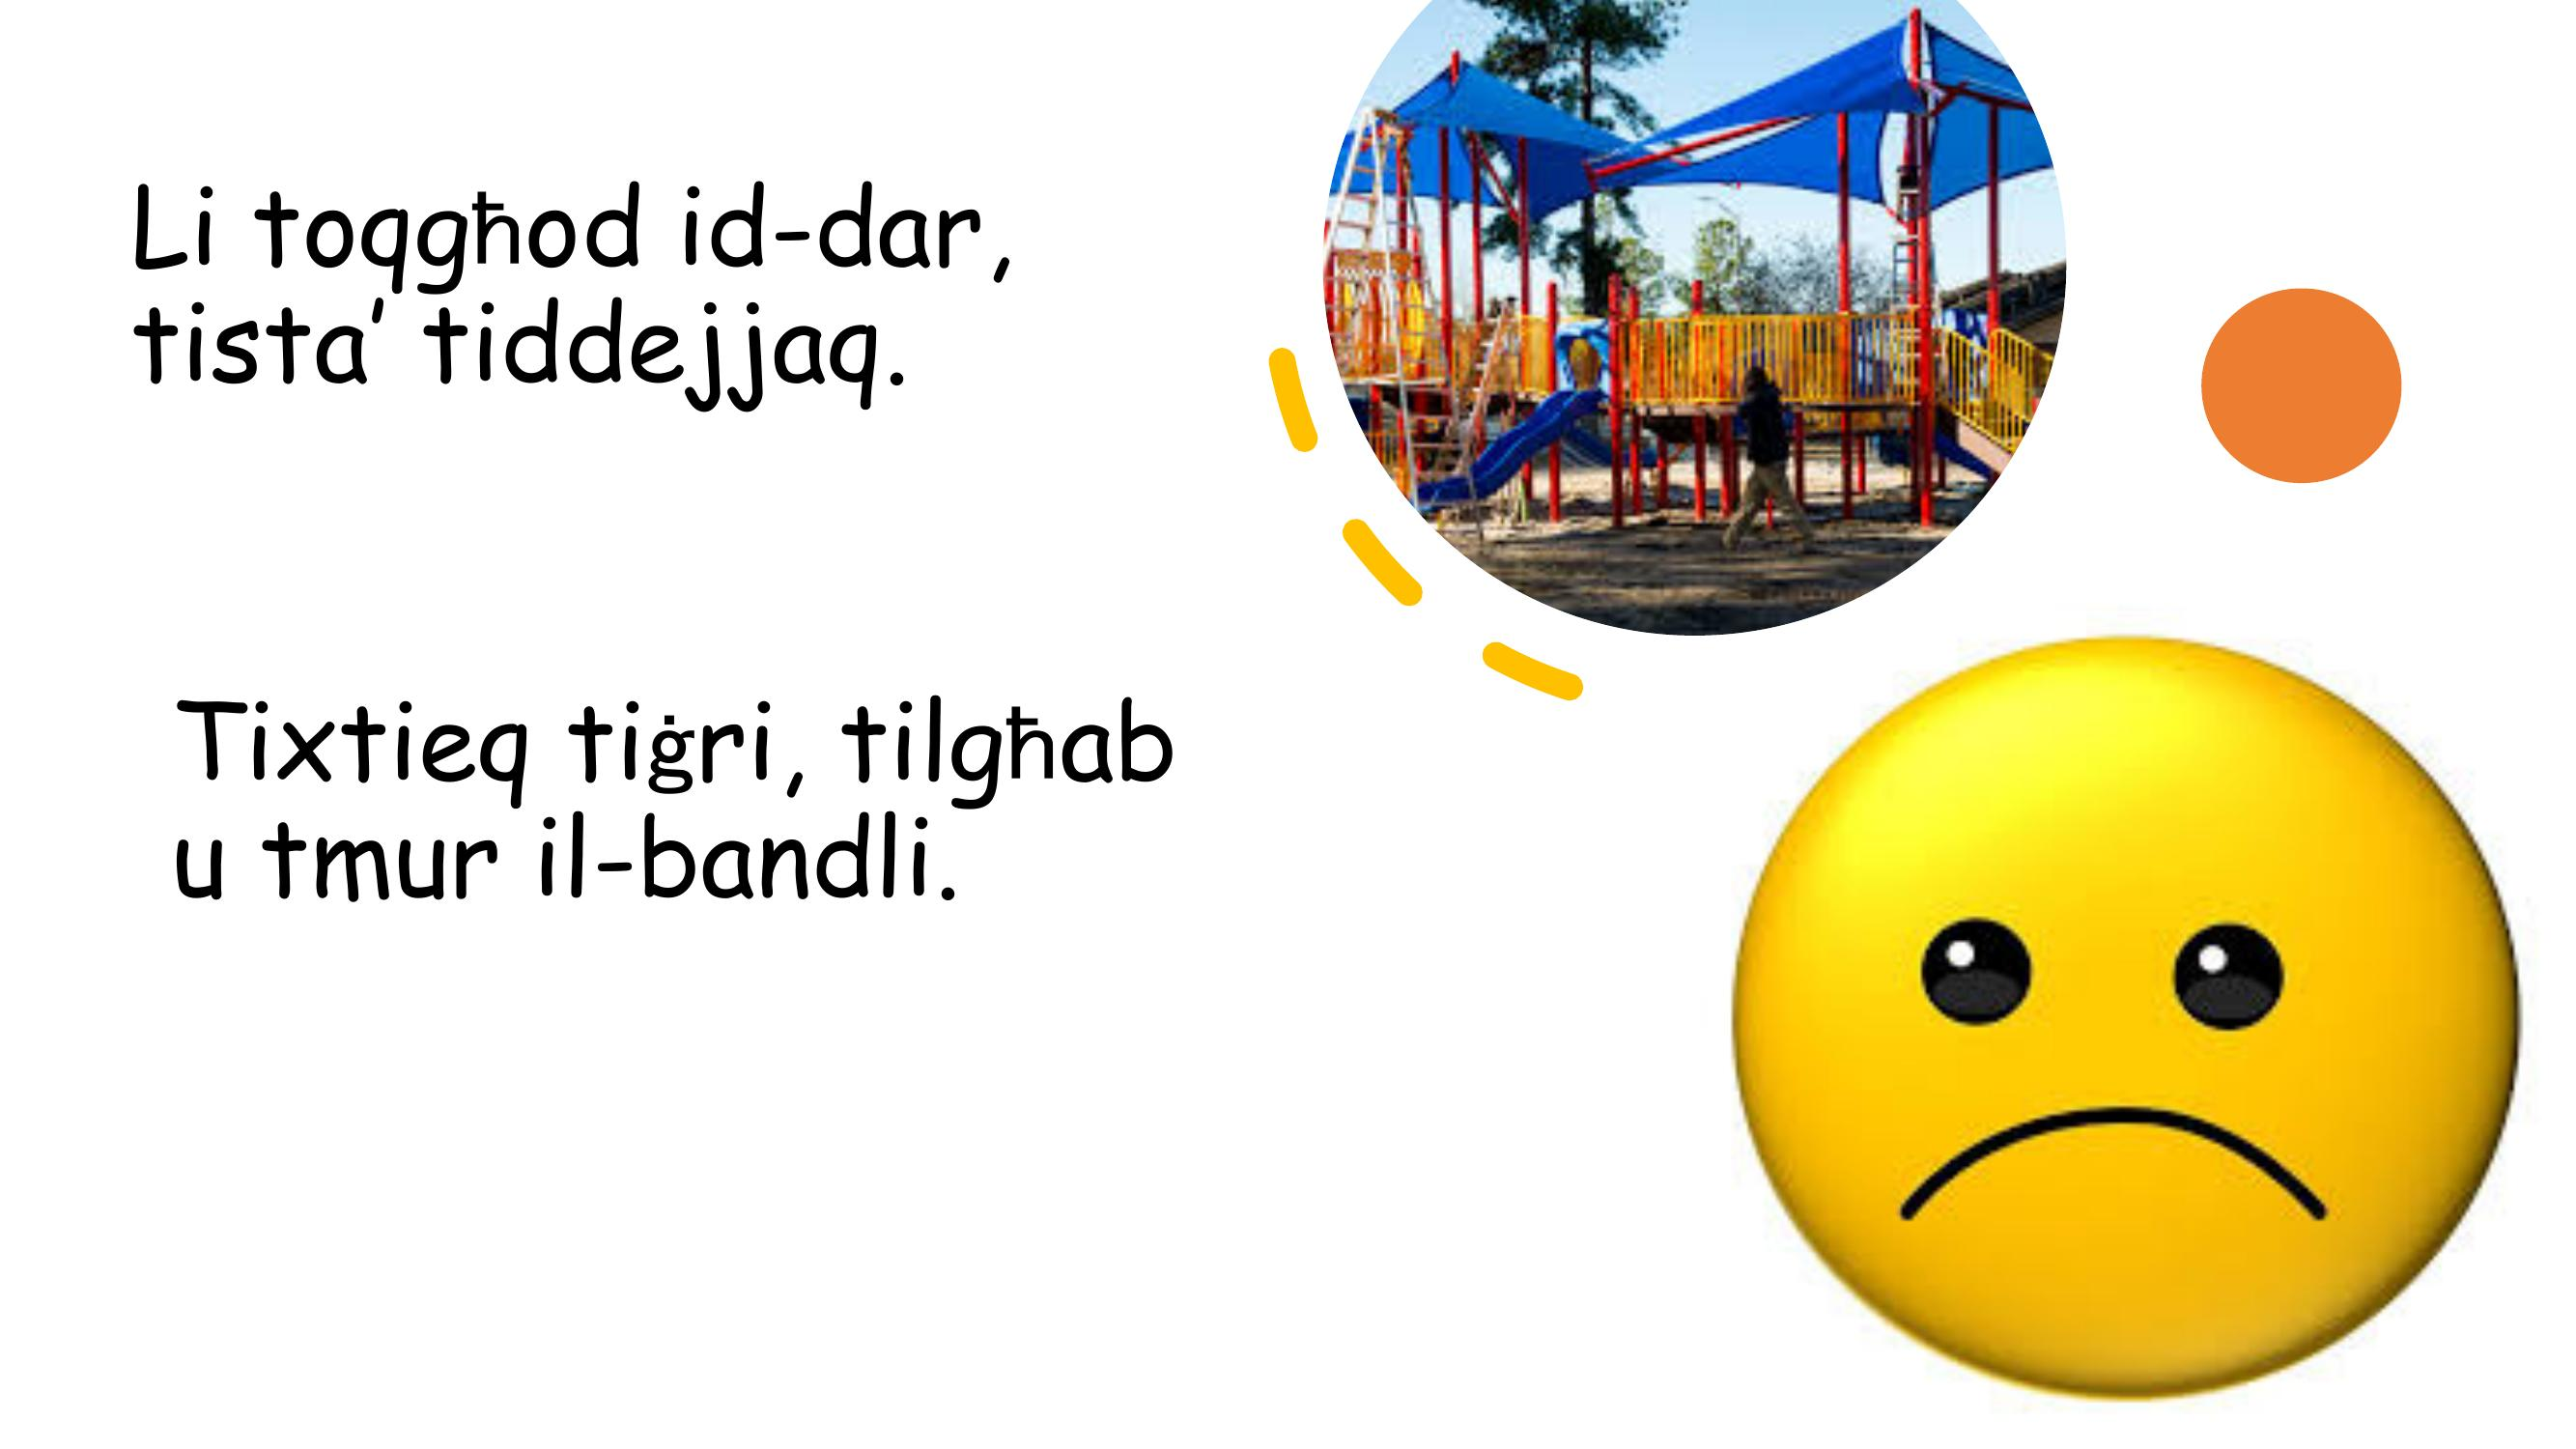text: (80, 134, 1215, 970)
